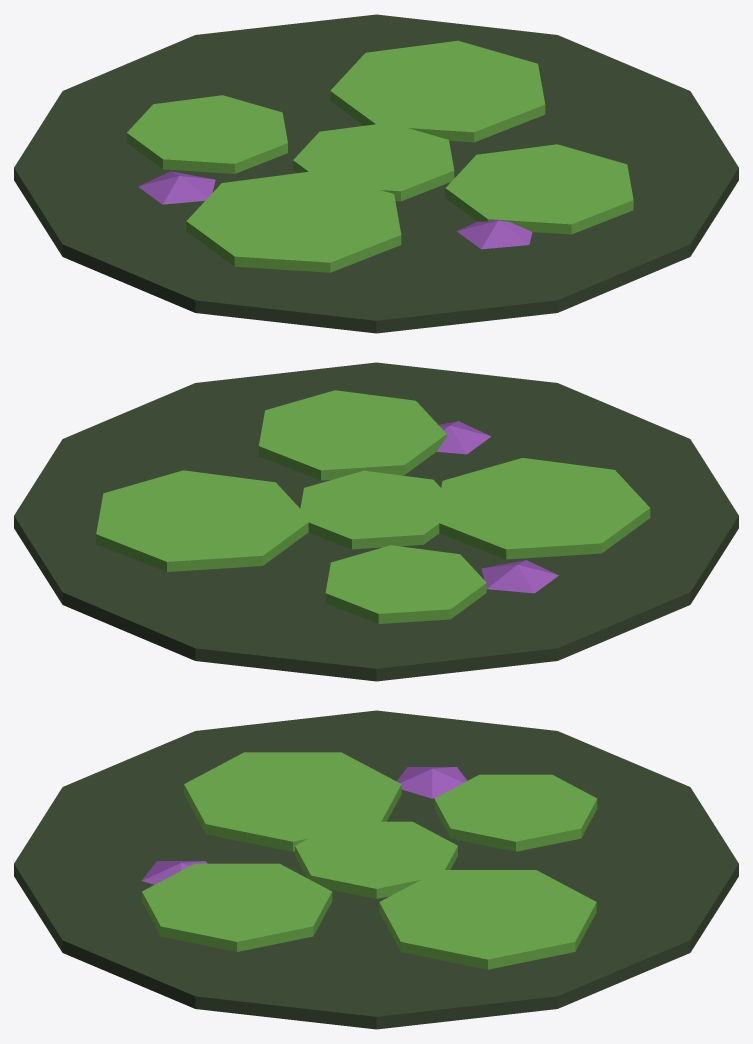
File: env_r6_lily_pad_patch.glb
3 renders of one model, top to bottom at view 1: azimuth 30°, elevation 25°; view 2: azimuth 150°, elevation 25°; view 3: azimuth 270°, elevation 25°, orthographic.
Parts seen in each view (by area): view 1: env_r6_lily_pad_patch; view 2: env_r6_lily_pad_patch; view 3: env_r6_lily_pad_patch.
Part boxes in pixels (x1,y1,x2,y2): env_r6_lily_pad_patch: (14, 14, 738, 333); env_r6_lily_pad_patch: (14, 362, 738, 681); env_r6_lily_pad_patch: (14, 710, 738, 1029).
Size of the model in its own units: 2.6 by 0.1 by 2.6.
Materials: 1 (1 with a texture image).
